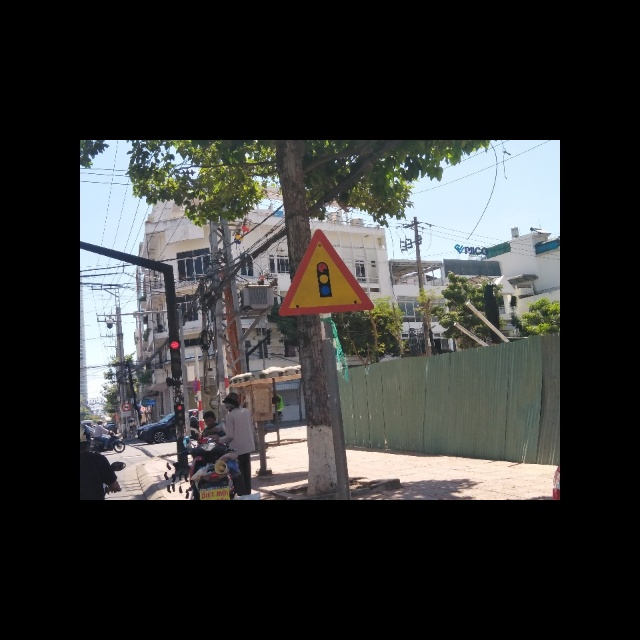Giao nhau có tín hiệu đèn: (280, 228, 378, 314)
